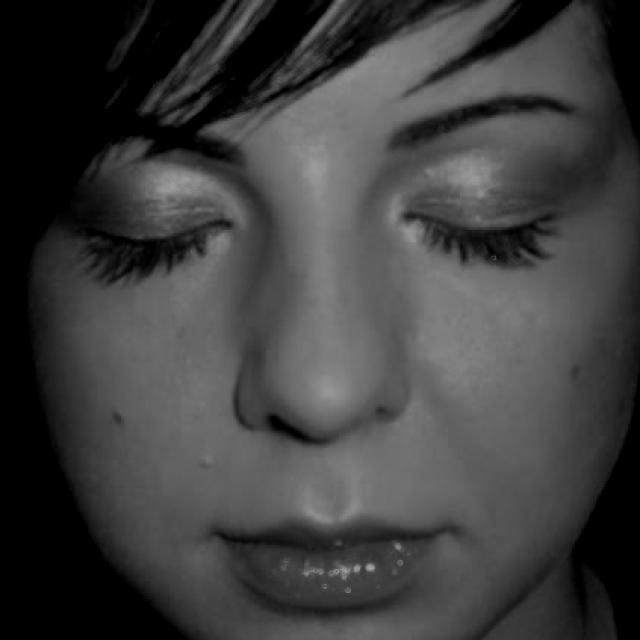real: (34, 53, 626, 623), (70, 149, 599, 285)
